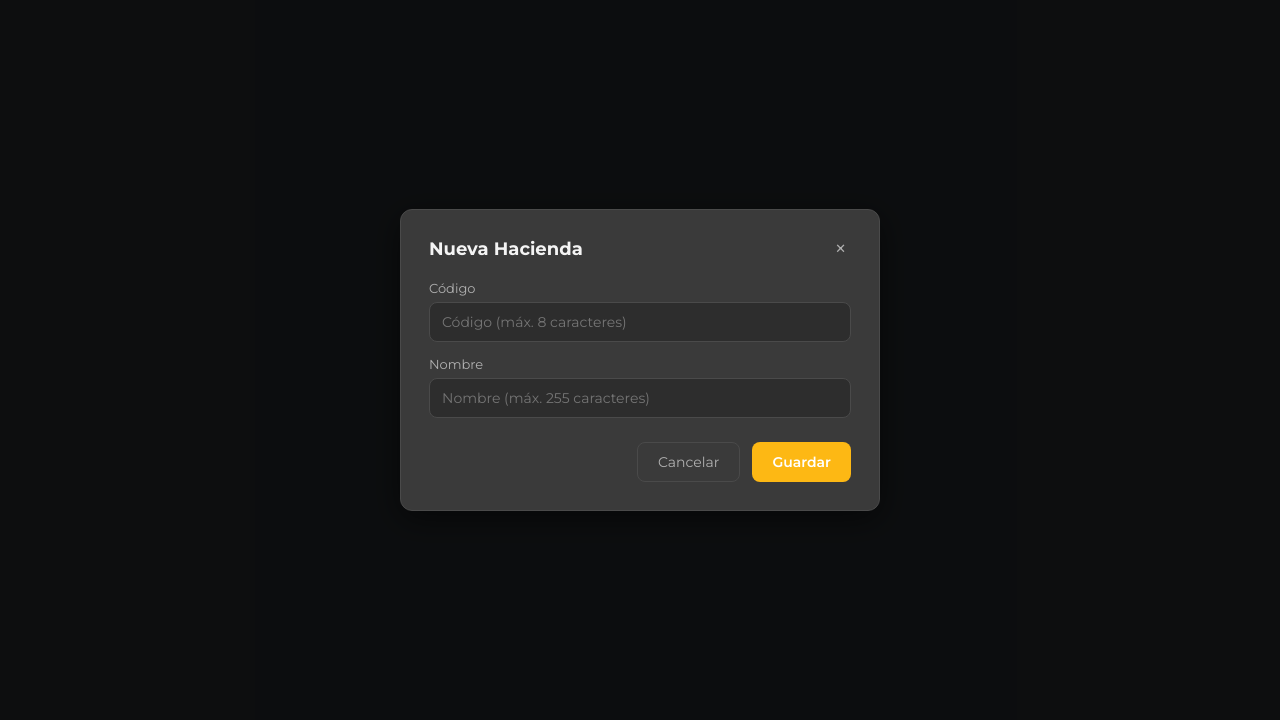
Test case: HaciendaFormModal › Create mode (R8) › valida que Codigo no exceda 8 caracteres
This screenshot has width=1280, height=720.
Type "123456789" into the field with placeholder "Código (máx. 8 caracteres)" at (640, 322), box [429,302,851,342]
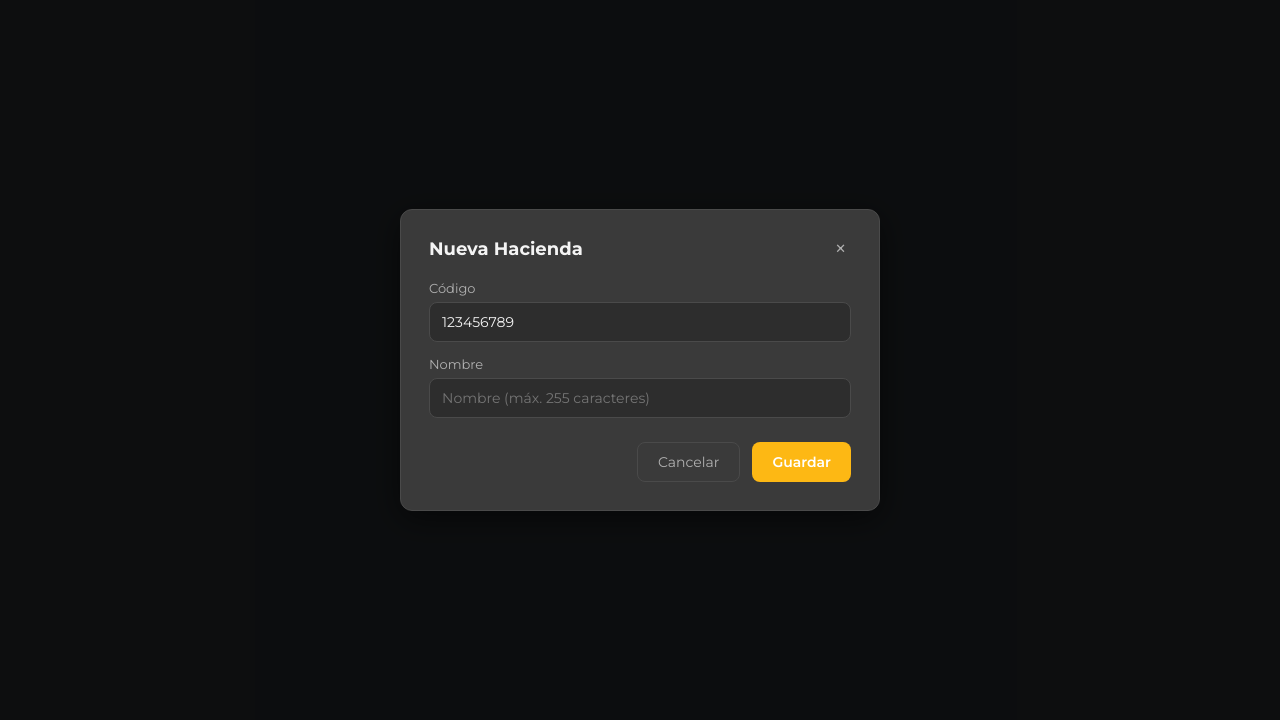
Click the button "Guardar" at (802, 462), box [752,442,851,482]
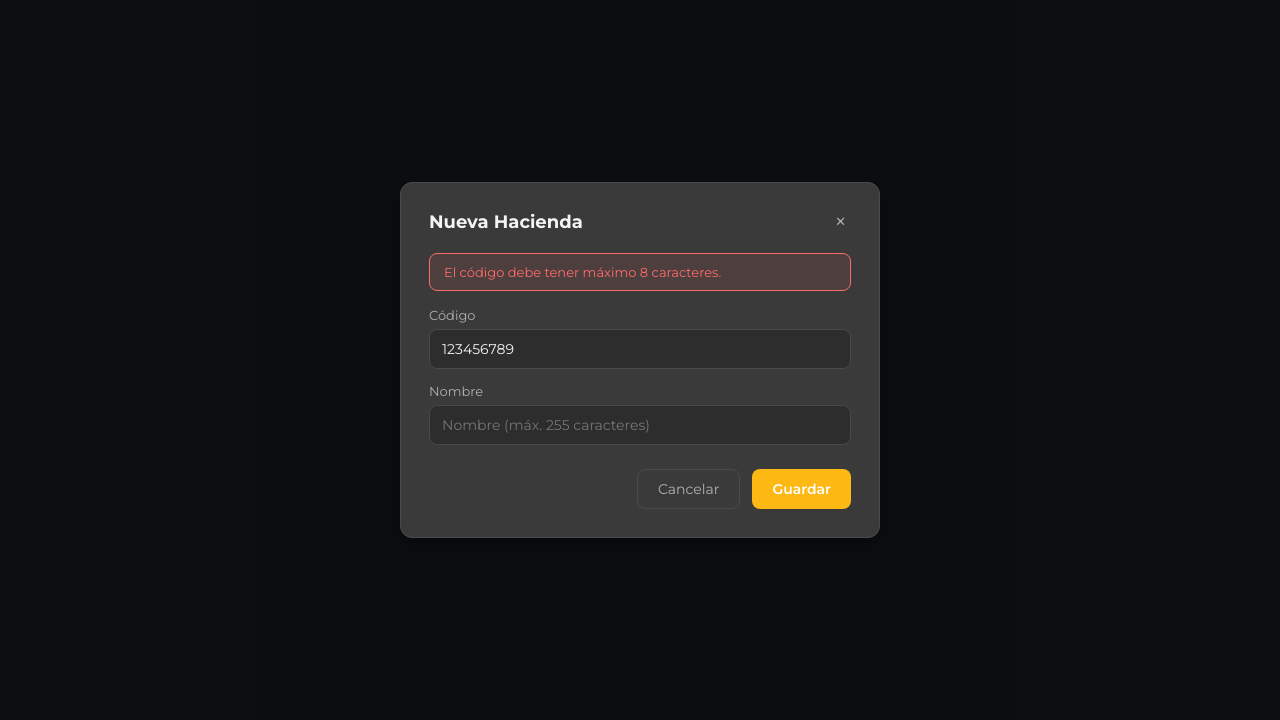
Expected: the text "El código debe tener máximo 8 caracteres." is shown, [429,253,851,291]
